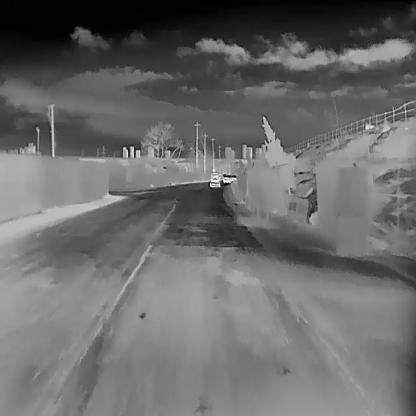car: (209, 171, 219, 187), (223, 174, 231, 182), (230, 174, 237, 180)
